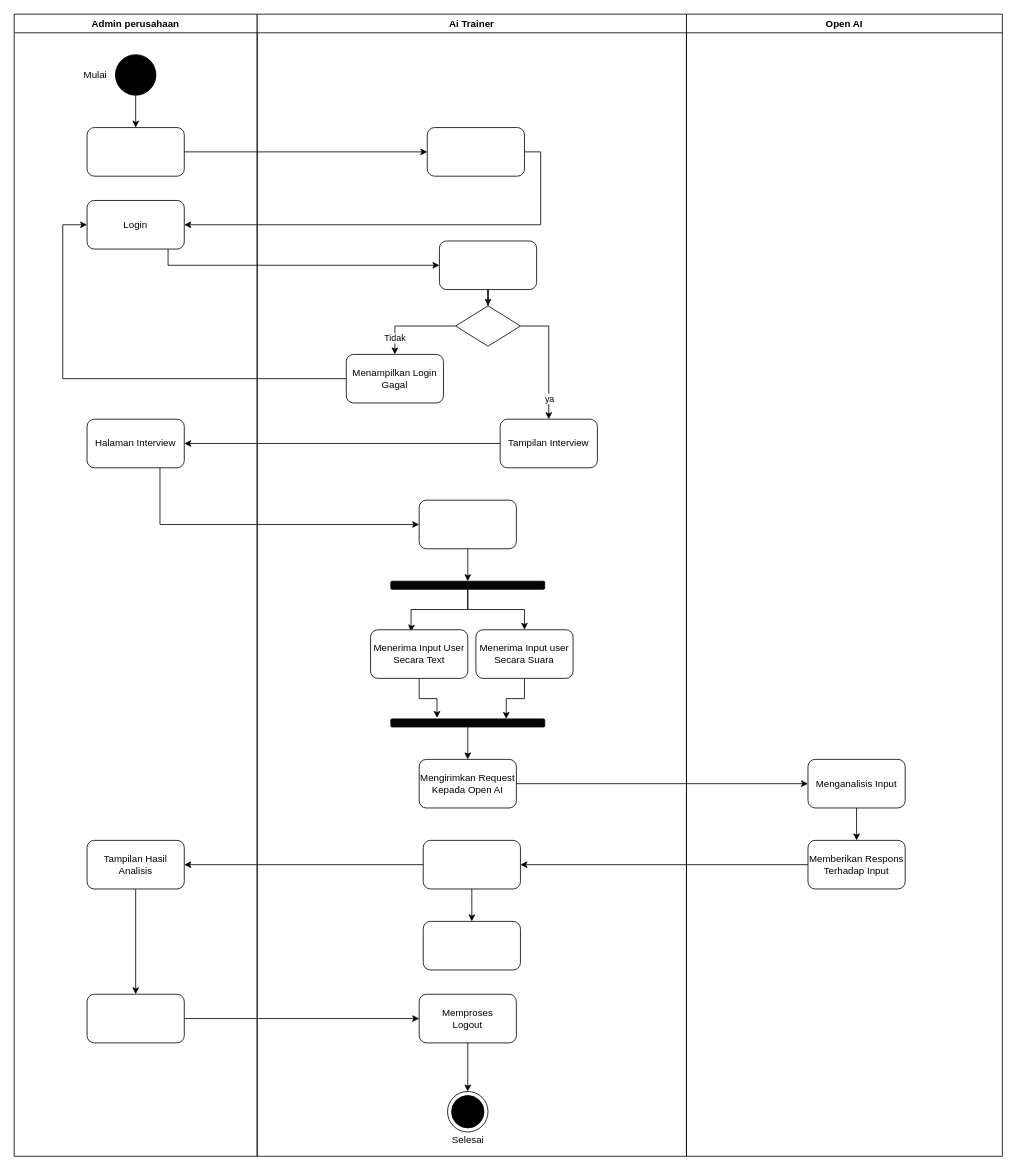
Image size: 1017x1170. Some labels were removed from this diagram. The centre of each missing label's shape, as x and y in pixels:
Logout: the point at 135,1018
Membuka Halaman Beranda: the point at 135,151
Memulai Sesi: the point at 467,524
Menampilkan Halaman Beranda: the point at 475,151
Menerima dan Menampilkan hasil analisis: the point at 471,864
Menyimpan Hasil Analisis: the point at 471,945
Validasi Login: the point at 488,265
